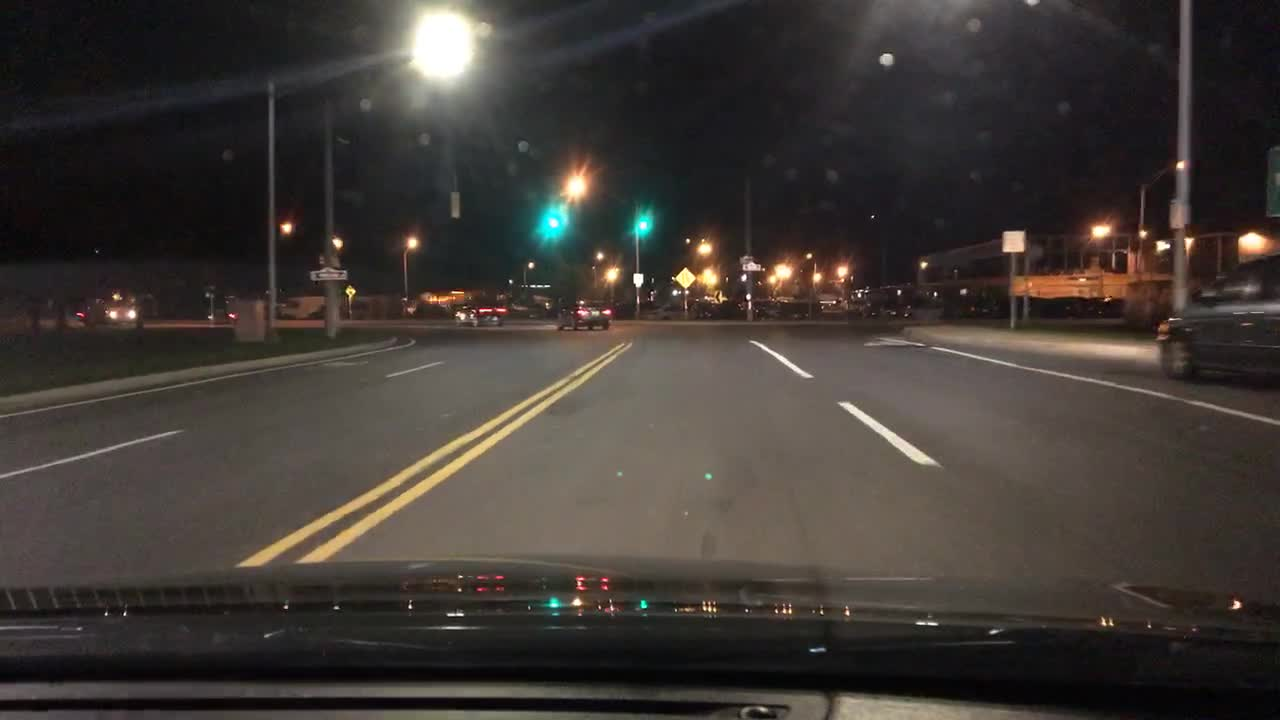car: (1155, 249, 1276, 384), (75, 287, 139, 327), (554, 294, 612, 329), (451, 297, 509, 327), (997, 294, 1053, 324), (1040, 294, 1093, 322), (967, 290, 1016, 320), (206, 296, 251, 325), (862, 297, 913, 322), (1079, 294, 1124, 320), (750, 297, 785, 320), (689, 299, 724, 320), (780, 299, 810, 320), (720, 301, 750, 322), (804, 299, 827, 318)
traffic light: (632, 217, 649, 235), (544, 215, 560, 231)
traffic sign: (1259, 145, 1278, 220), (308, 265, 350, 283), (1002, 227, 1028, 253), (675, 265, 699, 290), (739, 258, 766, 274), (631, 270, 645, 288), (710, 285, 723, 304), (343, 283, 358, 297)
